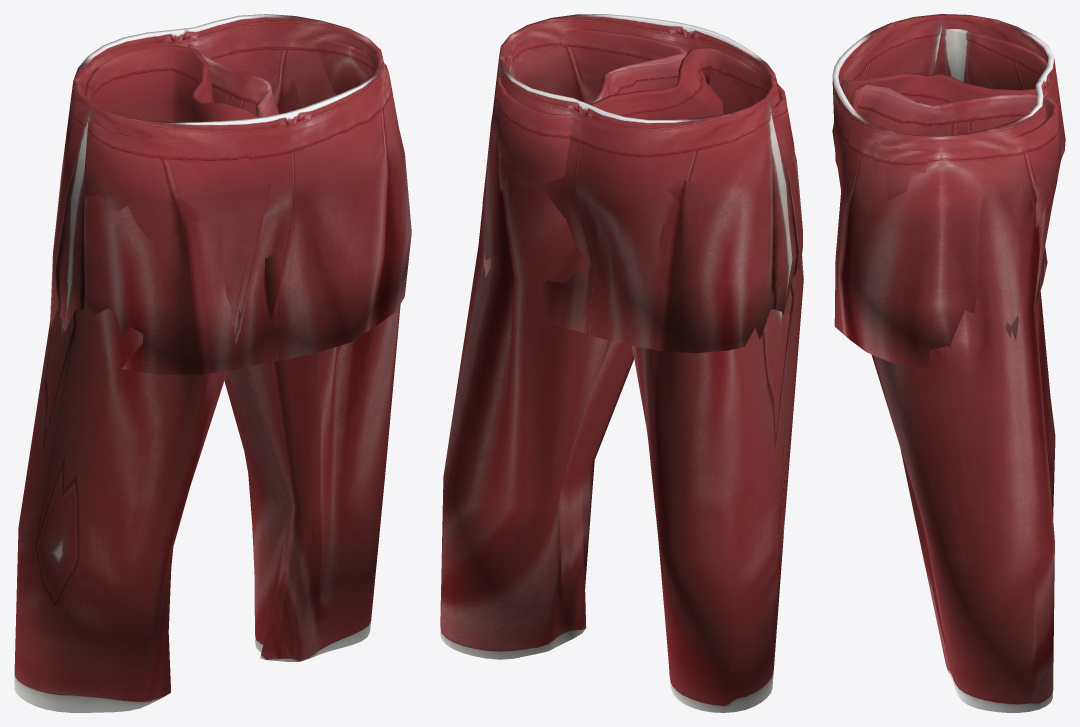
File: b5c2fff2-3426-437f-ad66-ec321134210e.glb
3 views of the same model, side by side, from view 1: azimuth 30°, elevation 25°; view 2: azimuth 150°, elevation 25°; view 3: azimuth 270°, elevation 25° (orthographic). The views are drawn at different scales.
Visible parts, largest first — view 1: garment_leg0; view 2: garment_leg0; view 3: garment_leg0.
Boxes of the visible parts, x1,y1,x2,y2 form: garment_leg0: [14, 14, 411, 712]; garment_leg0: [440, 14, 803, 712]; garment_leg0: [832, 14, 1065, 712].
Bounding box in the file's own units: 0.4492 × 0.7726 × 0.2885.
1 material, 1 textured.
